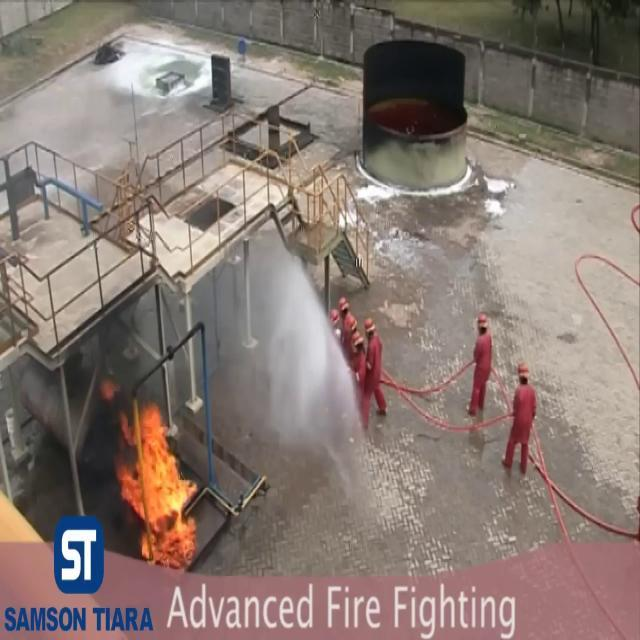Fire: (110, 390, 200, 564)
